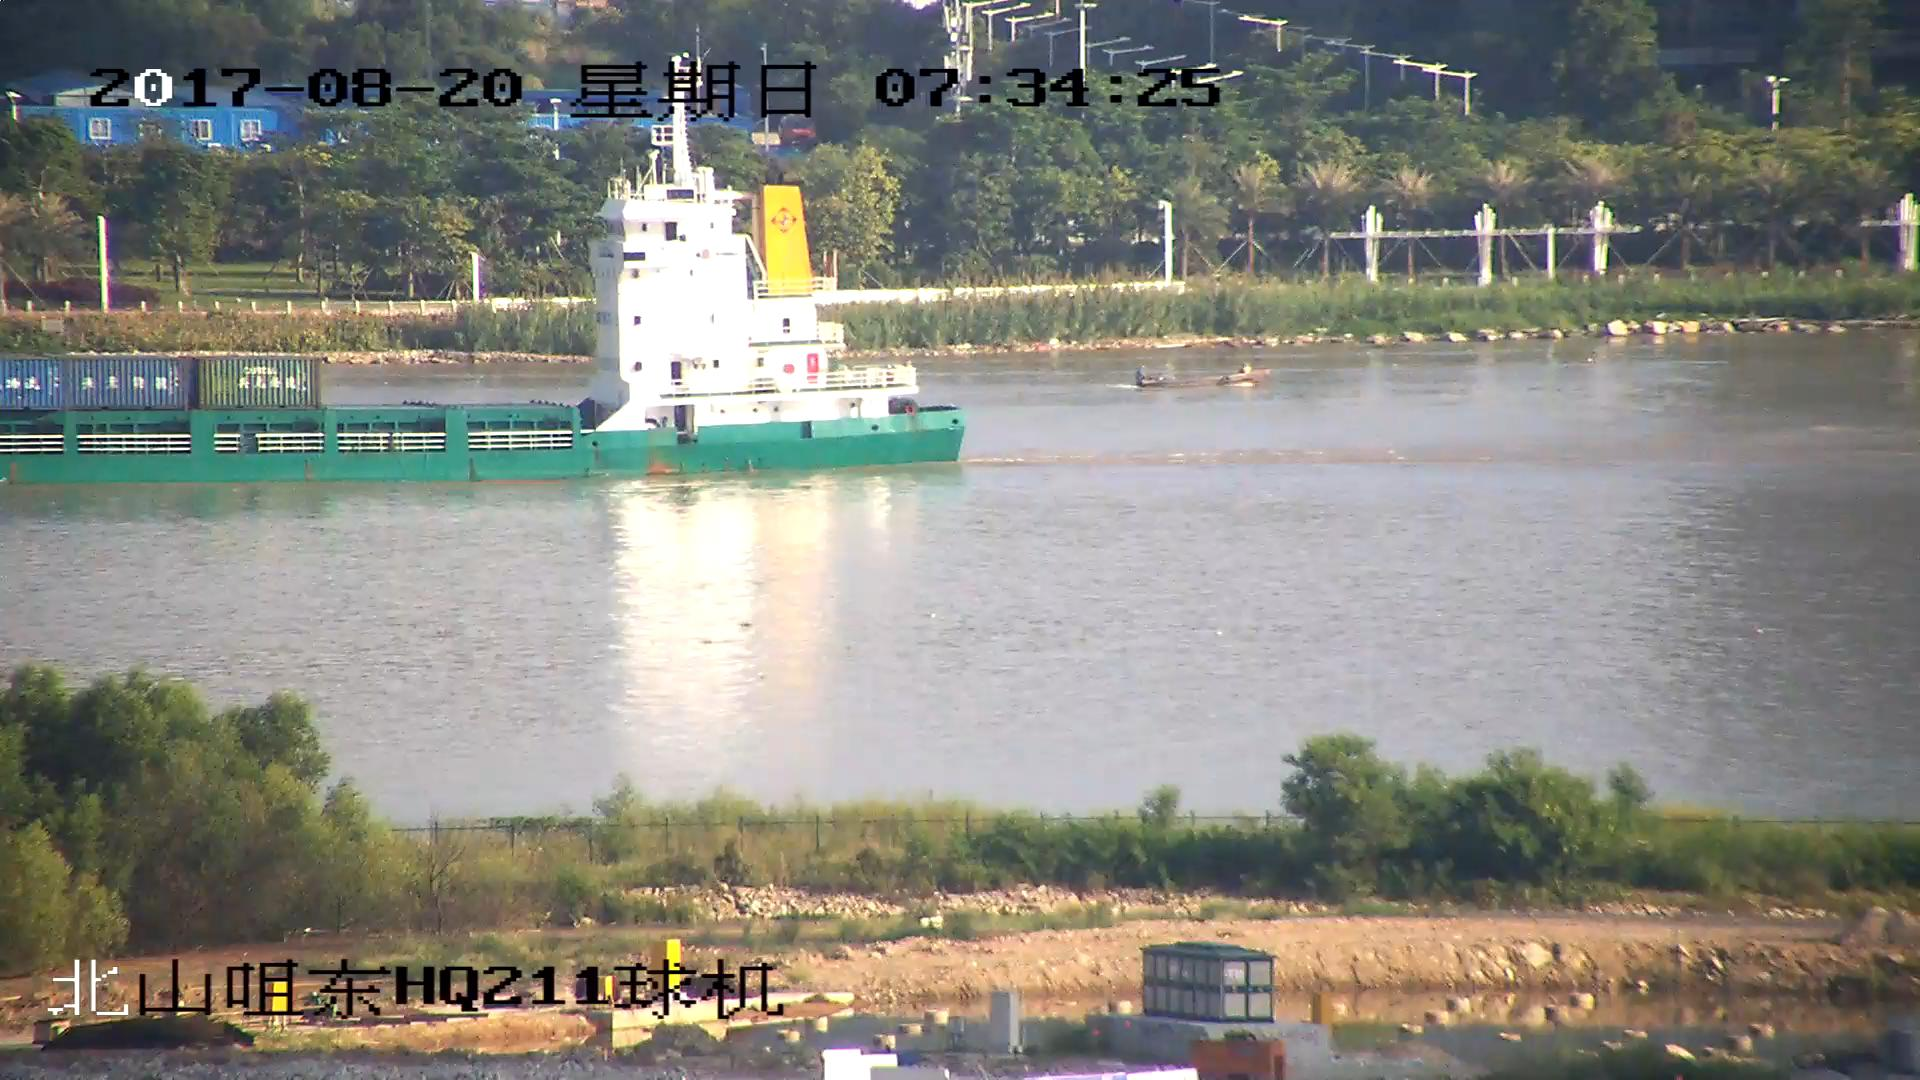fishing boat: (1133, 361, 1271, 395)
general cargo ship: (1, 110, 964, 481)
